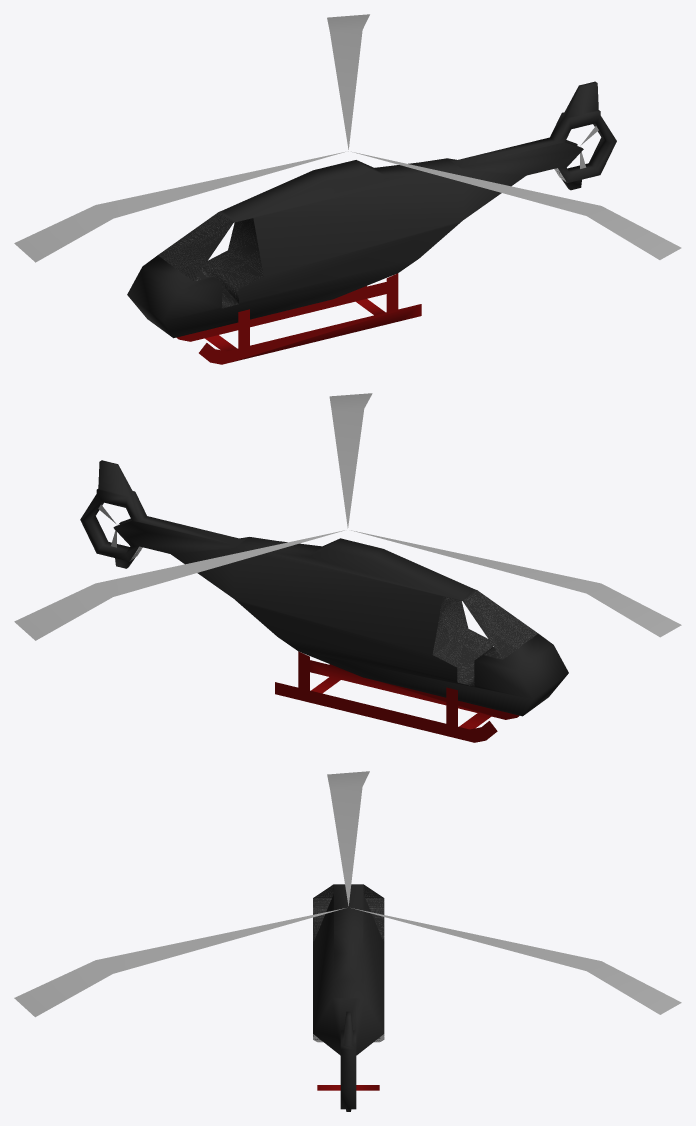
File: black_heli.dae
3 renders of one model, top to bottom at view 1: azimuth 30°, elevation 25°; view 2: azimuth 150°, elevation 25°; view 3: azimuth 270°, elevation 25°, orthographic.
Parts seen in each view (by area): view 1: SketchUp (×8); view 2: SketchUp (×8); view 3: SketchUp (×5).
Boxes of the visible parts, x1=… form: SketchUp (×8): x1=14, y1=14, x2=681, y2=364; SketchUp (×8): x1=14, y1=393, x2=681, y2=742; SketchUp (×5): x1=14, y1=771, x2=681, y2=1109.
Size of the model in its own units: 605 by 597 by 173.
